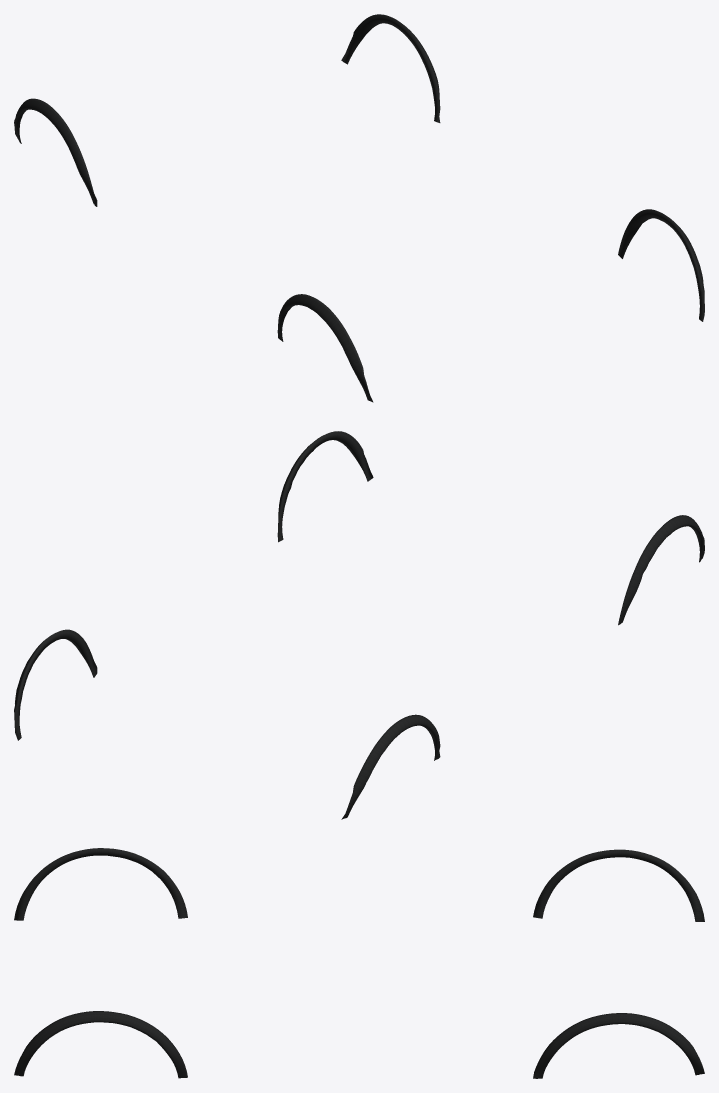
The model's file is DT61_fender_flares_carbon.glb.
The picture shows the model from 3 angles, top to bottom: view 1: azimuth 30°, elevation 25°; view 2: azimuth 150°, elevation 25°; view 3: azimuth 270°, elevation 25°; orthographic projection. The views are drawn at different scales.
Parts seen in each view (by area): view 1: MOD_ND_DT61_front_R, MOD_ND_DT61_rear_L, MOD_ND_DT61_rear_R, MOD_ND_DT61_front_L; view 2: MOD_ND_DT61_rear_R, MOD_ND_DT61_front_R, MOD_ND_DT61_front_L, MOD_ND_DT61_rear_L; view 3: MOD_ND_DT61_front_L, MOD_ND_DT61_rear_L, MOD_ND_DT61_rear_R, MOD_ND_DT61_front_R.
Part boxes in pixels (x1,y1,x2,y2): MOD_ND_DT61_front_R: (277,294,373,402); MOD_ND_DT61_rear_L: (341,14,440,122); MOD_ND_DT61_rear_R: (14,98,97,206); MOD_ND_DT61_front_L: (618,209,704,321); MOD_ND_DT61_rear_R: (341,714,440,819); MOD_ND_DT61_front_R: (618,515,704,625); MOD_ND_DT61_front_L: (277,431,373,542); MOD_ND_DT61_rear_L: (14,629,97,740); MOD_ND_DT61_front_L: (14,1011,187,1078); MOD_ND_DT61_rear_L: (533,1013,704,1078); MOD_ND_DT61_rear_R: (533,849,704,921); MOD_ND_DT61_front_R: (14,848,187,920).
Size of the model in its own units: 1.79 by 0.3399 by 3.08.
1 material, 1 textured.
